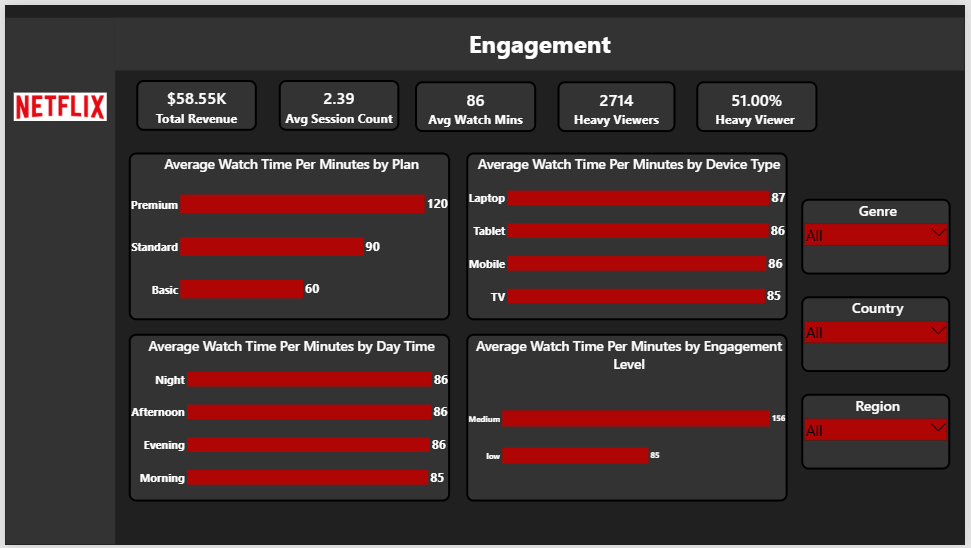

The dashboard page shown, as its layout file describes it:
{"tool":"powerbi","page":{"name":"Engagement","canvas":[3840,2160],"ordinal":2},"visuals":[{"type":"shape","box":[0,51.9,441.5,2107.9],"z":0},{"type":"image","box":[34.6,337.6,372.2,134.2],"z":1000},{"type":"textbox","box":[441.5,51.9,3397.7,212.1],"z":2000},{"type":"card","title":"Revenue by Plan  ","fields":{"Values":["Netflix_Cleaned_Data.Total Revenue"]},"box":[523.3,302.3,482.7,203],"z":3000},{"type":"card","title":"Revenue by Plan  ","fields":{"Values":["Netflix_Cleaned_Data.Avg Watcg Time"]},"box":[1640.4,303,484.8,203.4],"z":4000},{"type":"card","title":"Revenue by Plan  ","fields":{"Values":["Netflix_Cleaned_Data.Heavy Viewers"]},"box":[2211.8,303,471.8,203.4],"z":5000},{"type":"card","title":"Revenue by Plan  ","fields":{"Values":["Netflix_Cleaned_Data.Heavy Viewer Percentage"]},"box":[2765.8,303,484.8,203.4],"z":6000},{"type":"card","title":"Revenue by Plan  ","fields":{"Values":["Netflix_Cleaned_Data.Avg Session Count"]},"box":[1096.3,302.3,482.7,203],"z":7000},{"type":"barChart","title":"Average Watch Time Per Minutes  by Plan  ","fields":{"Category":["Netflix_Cleaned_Data.subscription_plan"],"Y":["Netflix_Cleaned_Data.Avg Watcg Time"]},"box":[493.4,588.6,1285.5,670.9],"z":8000},{"type":"barChart","title":"Average Watch Time Per Minutes  by Device Type ","fields":{"Category":["Netflix_Cleaned_Data.device_type"],"Y":["Netflix_Cleaned_Data.Avg Watcg Time"]},"box":[1843.8,588.6,1285.5,670.9],"z":9000},{"type":"barChart","title":"Average Watch Time Per Minutes  by Day Time  ","fields":{"Category":["Netflix_Cleaned_Data.time_of_day"],"Y":["Netflix_Cleaned_Data.Avg Watcg Time"]},"box":[493.4,1315.8,1285.5,670.9],"z":10000},{"type":"barChart","title":"Average Watch Time Per Minutes  by Engagement Level","fields":{"Category":["Netflix_Cleaned_Data.Engagement_Level"],"Y":["Netflix_Cleaned_Data.Avg Watcg Time"]},"box":[1843.8,1315.8,1285.5,670.9],"z":11000},{"type":"slicer","title":"Genre","fields":{"Values":["Netflix_Cleaned_Data.genre"]},"box":[3185.6,774.8,597.3,303],"z":12000},{"type":"slicer","title":"Country","fields":{"Values":["Netflix_Cleaned_Data.country"]},"box":[3186.9,1163.5,595.8,303.5],"z":13000},{"type":"slicer","title":"Region","fields":{"Values":["Netflix_Cleaned_Data.region"]},"box":[3186.9,1556.9,595.8,303.5],"z":14000}]}

Visuals, with their boxes in screenshot pixels (x1, y1, x2, y2), scaled from the page's 3840x2160 canvas onto the 971x548 screenshot:
shape: [x1=0, y1=13, x2=112, y2=547]
image: [x1=9, y1=86, x2=103, y2=120]
textbox: [x1=112, y1=13, x2=970, y2=67]
"Revenue by Plan  " card: [x1=132, y1=77, x2=254, y2=128]
"Revenue by Plan  " card: [x1=415, y1=77, x2=537, y2=128]
"Revenue by Plan  " card: [x1=559, y1=77, x2=679, y2=128]
"Revenue by Plan  " card: [x1=699, y1=77, x2=822, y2=128]
"Revenue by Plan  " card: [x1=277, y1=77, x2=399, y2=128]
"Average Watch Time Per Minutes  by Plan  " barChart: [x1=125, y1=149, x2=450, y2=320]
"Average Watch Time Per Minutes  by Device Type " barChart: [x1=466, y1=149, x2=791, y2=320]
"Average Watch Time Per Minutes  by Day Time  " barChart: [x1=125, y1=334, x2=450, y2=504]
"Average Watch Time Per Minutes  by Engagement Level" barChart: [x1=466, y1=334, x2=791, y2=504]
"Genre" slicer: [x1=806, y1=197, x2=957, y2=273]
"Country" slicer: [x1=806, y1=295, x2=957, y2=372]
"Region" slicer: [x1=806, y1=395, x2=957, y2=472]
